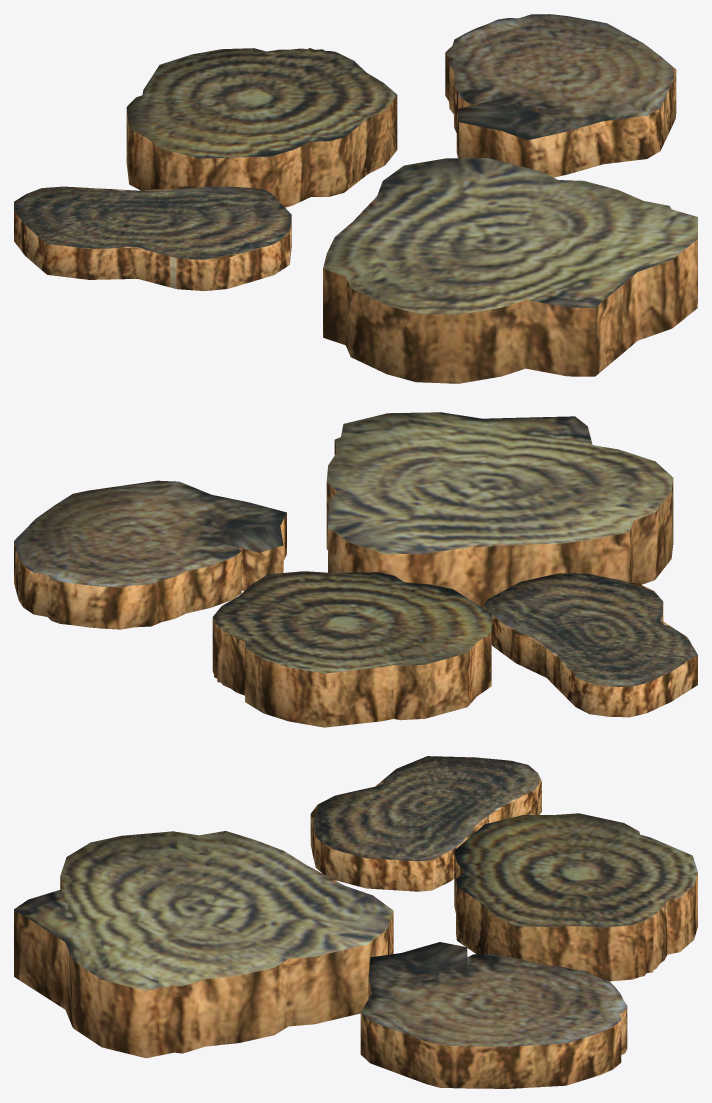
The model's file is shanglu.FBX.
3 views of the same model, one above another, from view 1: azimuth 30°, elevation 25°; view 2: azimuth 150°, elevation 25°; view 3: azimuth 270°, elevation 25° (orthographic). The views are drawn at different scales.
Visible parts, largest first — view 1: Plane001, Plane002, Plane003, Plane004; view 2: Plane001, Plane002, Plane003, Plane004; view 3: Plane001, Plane002, Plane003, Plane004.
Part boxes in pixels (x1=…): Plane001: x1=323, y1=158, x2=697, y2=383; Plane002: x1=126, y1=48, x2=397, y2=207; Plane003: x1=445, y1=14, x2=676, y2=177; Plane004: x1=14, y1=186, x2=291, y2=290; Plane001: x1=326, y1=412, x2=673, y2=607; Plane002: x1=212, y1=571, x2=491, y2=727; Plane003: x1=14, y1=480, x2=286, y2=629; Plane004: x1=483, y1=573, x2=697, y2=717; Plane001: x1=14, y1=831, x2=393, y2=1058; Plane002: x1=454, y1=813, x2=697, y2=981; Plane003: x1=360, y1=942, x2=627, y2=1088; Plane004: x1=310, y1=756, x2=541, y2=891.
Size of the model in its own units: 110 by 13.16 by 104.
Materials: 1 (1 with a texture image).
